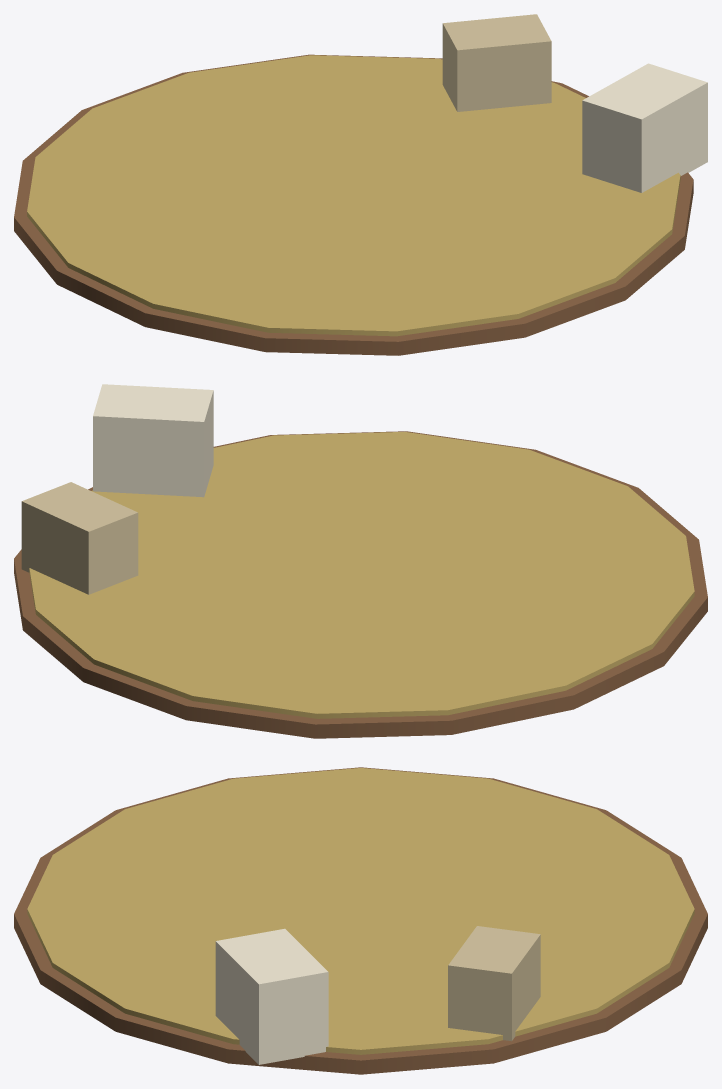
The model's file is threshing.glb.
3 renders of one model, top to bottom at view 1: azimuth 30°, elevation 25°; view 2: azimuth 150°, elevation 25°; view 3: azimuth 270°, elevation 25°, orthographic. The views are drawn at different scales.
Visible parts, largest first — view 1: threshing; view 2: threshing; view 3: threshing.
Boxes of the visible parts, <box> form: threshing: <box>14,14,707,355</box>; threshing: <box>14,384,707,738</box>; threshing: <box>14,767,707,1074</box>.
Size of the model in its own units: 3.16 by 0.47 by 3.12.
